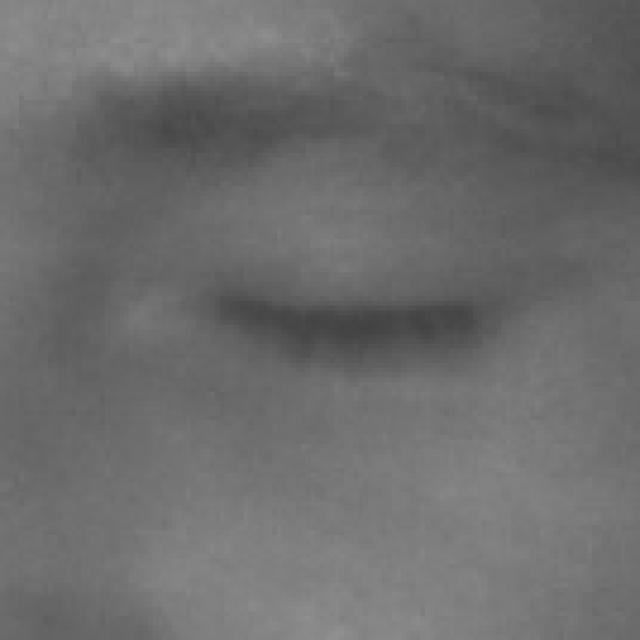Eyeclosed: (202, 172, 489, 480)
